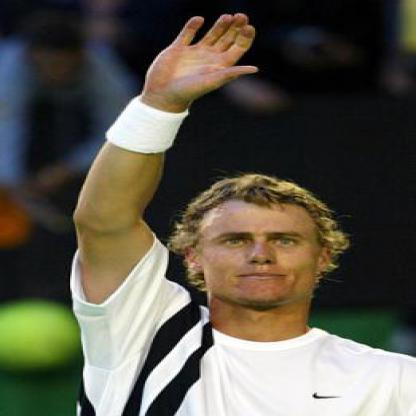face: (196, 183, 326, 307)
